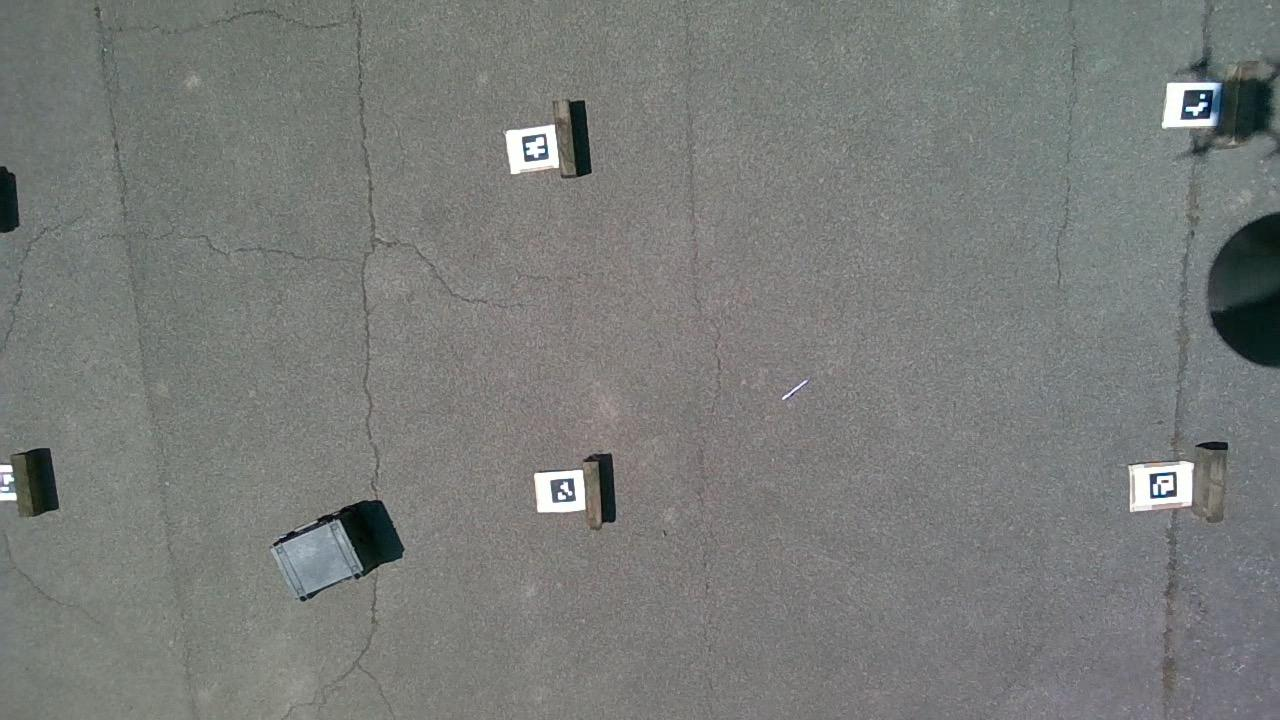probes: (777, 376, 813, 403)
rako: (269, 513, 364, 603)
